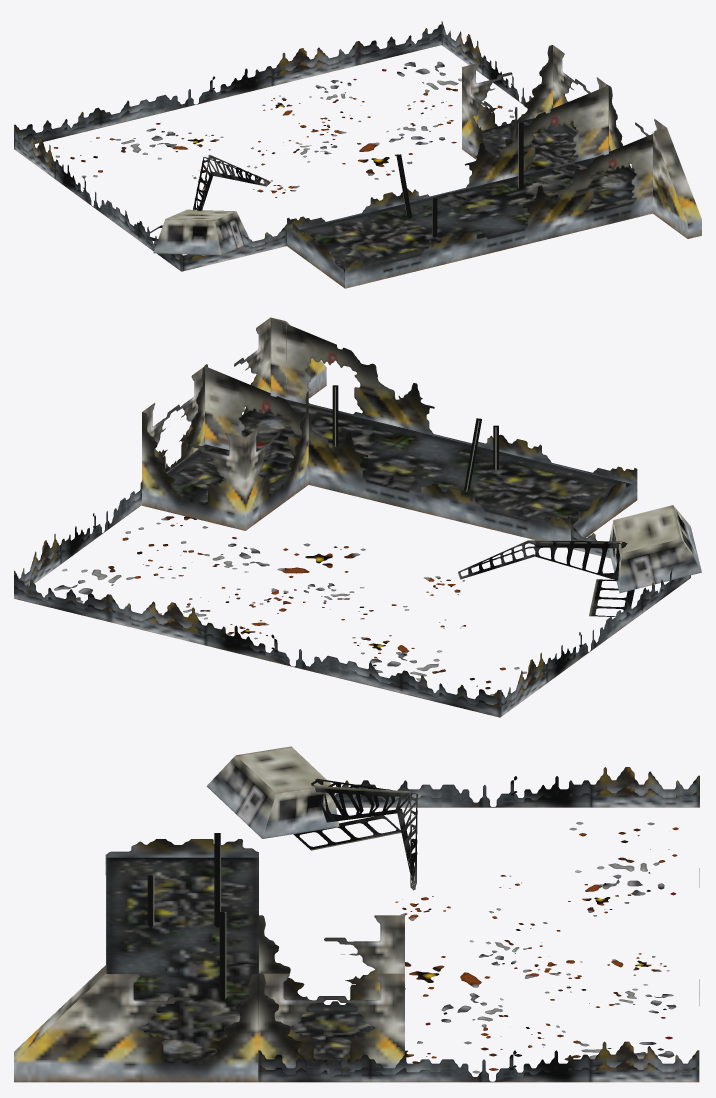
File: weaponsfacility_dam.glb
3 views of the same model, one above another, from view 1: azimuth 30°, elevation 25°; view 2: azimuth 150°, elevation 25°; view 3: azimuth 270°, elevation 25° (orthographic). The views are drawn at different scales.
Visible parts, largest first — view 1: WeaponsFacilityDam, objects_PAB; view 2: WeaponsFacilityDam, objects_PAB; view 3: WeaponsFacilityDam, objects_PAB.
Part boxes in pixels (x1,y1,x2,y2): WeaponsFacilityDam: (14,21,653,288); objects_PAB: (153,85,701,255); WeaponsFacilityDam: (14,317,690,717); objects_PAB: (204,317,701,593); WeaponsFacilityDam: (105,767,699,1082); objects_PAB: (14,746,339,1082).
Size of the model in its own units: 34.63 by 6.2 by 34.95.
Materials: 1 (1 with a texture image).
